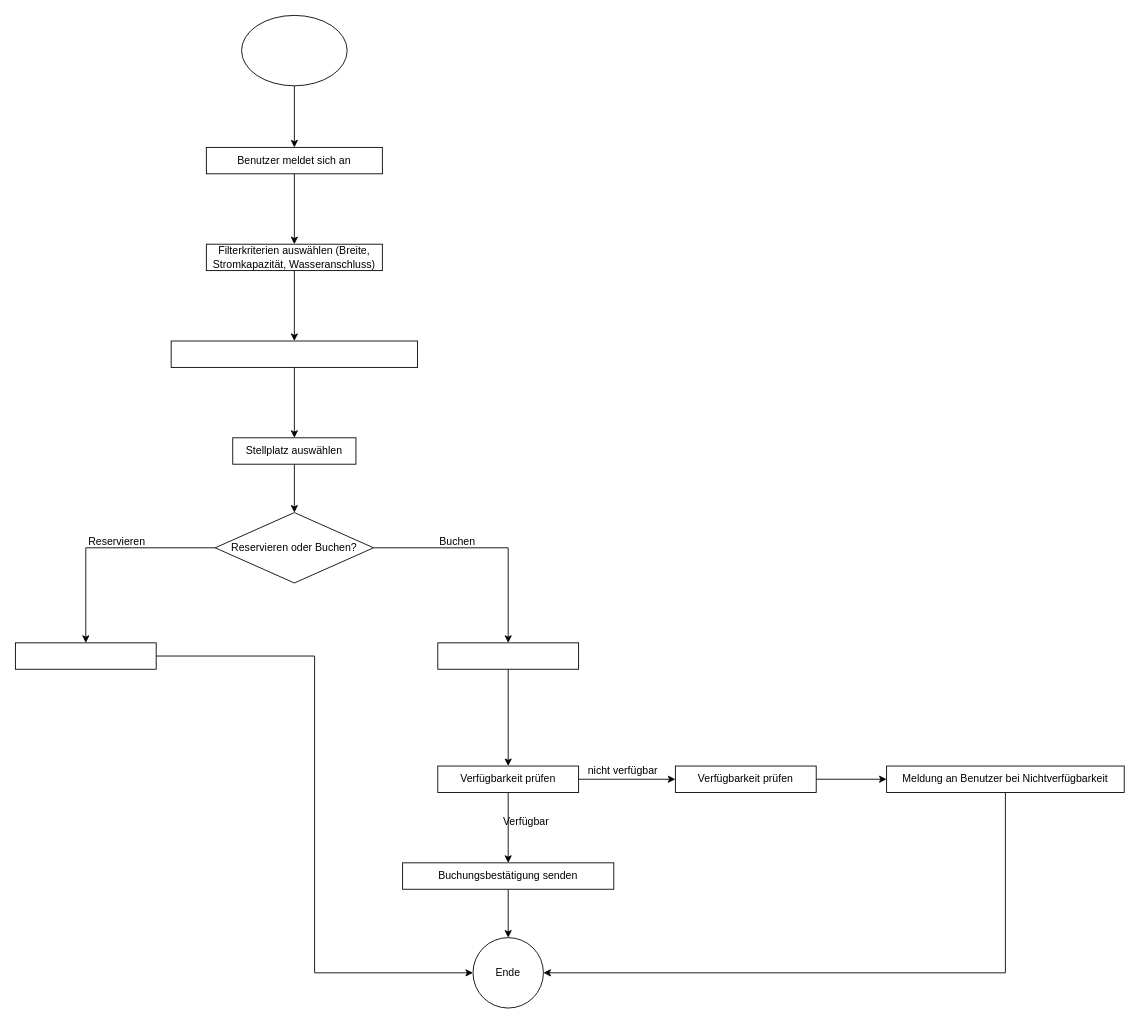
The diagram is 1140 pixels wide and 1023 high, and some of its shapes have lost their labels. Here are the shapes that lost their labels. From the top down, the centre of each, then its label:
At [294,50]: "Start".
At [294,353]: "System zeigt verfügbare Stellplätze".
At [85,655]: "Reservierung speichern".
At [508,655]: "Buchung speichern".
